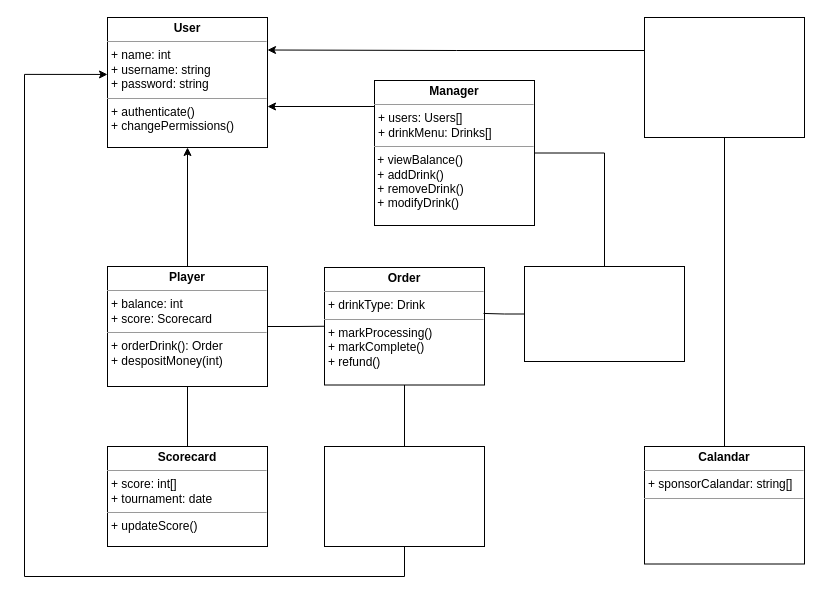
This 822x602 diagram has some shape labels left out. The centre of each missing label's shape, as x and y in pixels:
"Barista +drinkQueue: Order[]" belongs at [404,496].
"Drink + name: string + cost: int" belongs at [604,314].
"Sponsor + balance: int + reserveDate()" belongs at [724,77].
